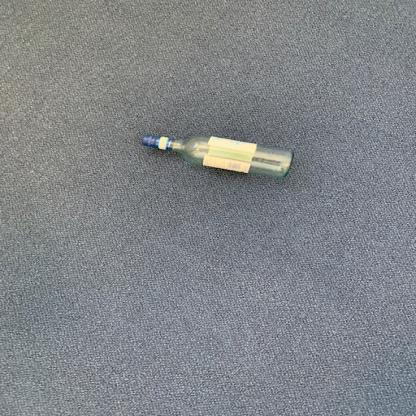trash: (135, 131, 300, 183)
